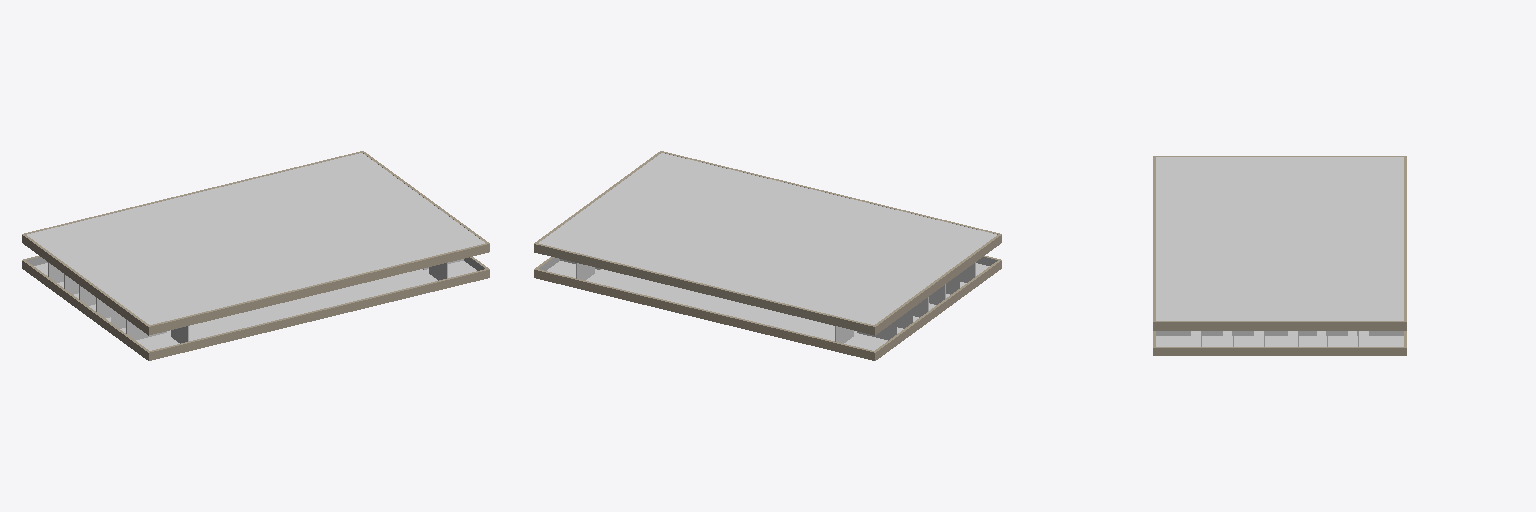
Rendered from Envelope_ForPunch_WWR20p-25p_9ft.obj.
3 views of the same model, side by side, from view 1: azimuth 30°, elevation 25°; view 2: azimuth 150°, elevation 25°; view 3: azimuth 270°, elevation 25° (orthographic).
Parts seen in each view (by area): view 1: Envelope_ForPunch_WWR20p-25p_9ft.obj; view 2: Envelope_ForPunch_WWR20p-25p_9ft.obj; view 3: Envelope_ForPunch_WWR20p-25p_9ft.obj.
Boxes of the visible parts, box(x1,y1,x2,y2) form: Envelope_ForPunch_WWR20p-25p_9ft.obj: box(22, 151, 489, 360); Envelope_ForPunch_WWR20p-25p_9ft.obj: box(534, 151, 1001, 360); Envelope_ForPunch_WWR20p-25p_9ft.obj: box(1153, 156, 1406, 355).
Size of the model in its own units: 38.71 by 3.69 by 24.95.